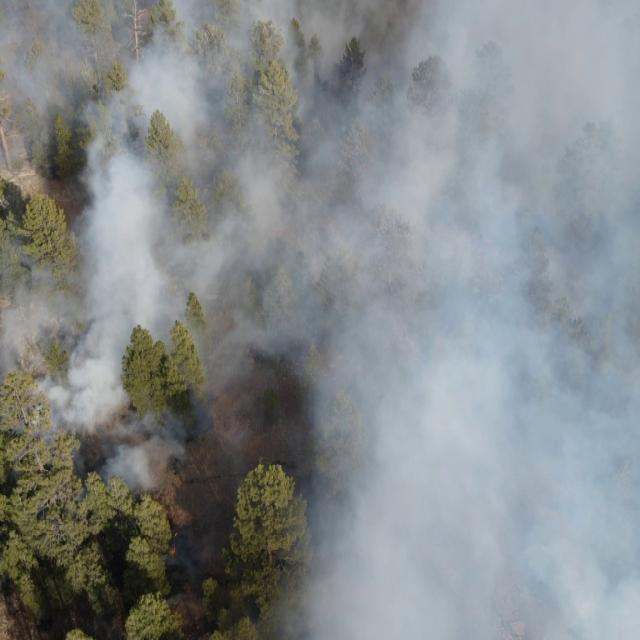fire: (170, 530, 179, 558)
smoke: (292, 0, 640, 640), (0, 0, 292, 330), (0, 328, 124, 502), (193, 330, 295, 464), (124, 404, 235, 494), (168, 524, 234, 604), (252, 590, 292, 640)
